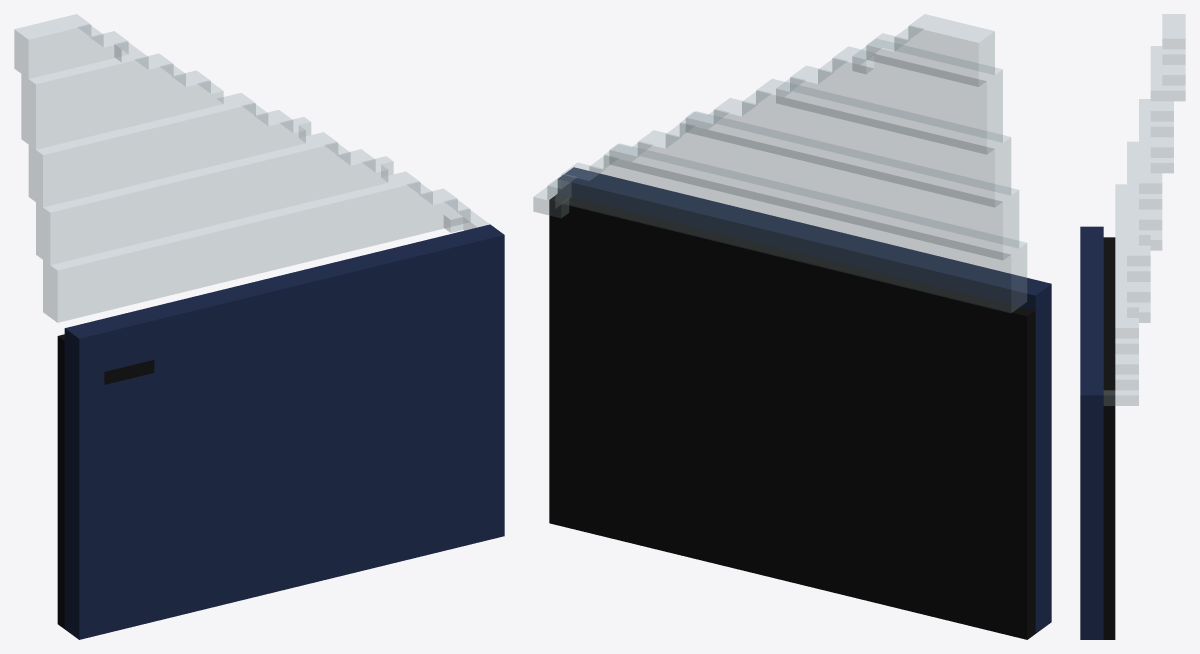
Rendered from minivan_front_door.glb.
3 renders of one model, left to right at view 1: azimuth 30°, elevation 25°; view 2: azimuth 150°, elevation 25°; view 3: azimuth 270°, elevation 25°, orthographic. The views are drawn at different scales.
Parts seen in each view (by area): view 1: body:compound; view 2: body:compound; view 3: body:compound.
Part boxes in pixels (<box>): body:compound: <box>14,14,504,639</box>; body:compound: <box>533,14,1051,639</box>; body:compound: <box>1080,14,1185,639</box>.
Size of the model in its own units: 1.06 by 1.34 by 0.2812.
